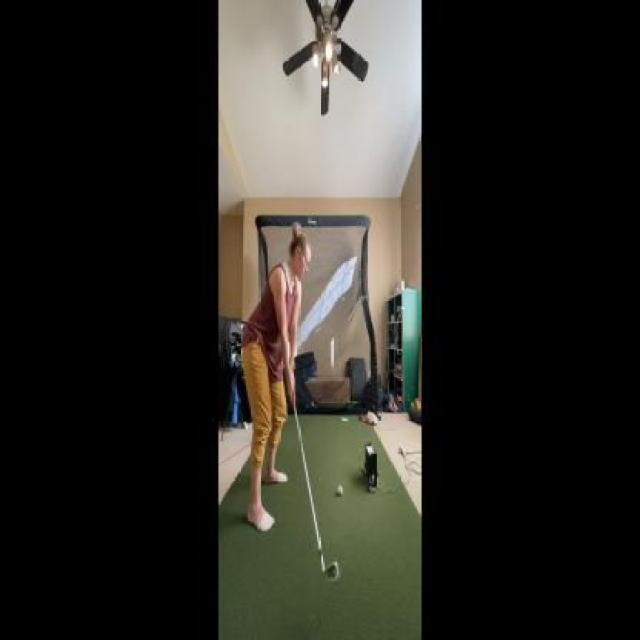club head: (318, 548, 340, 584)
